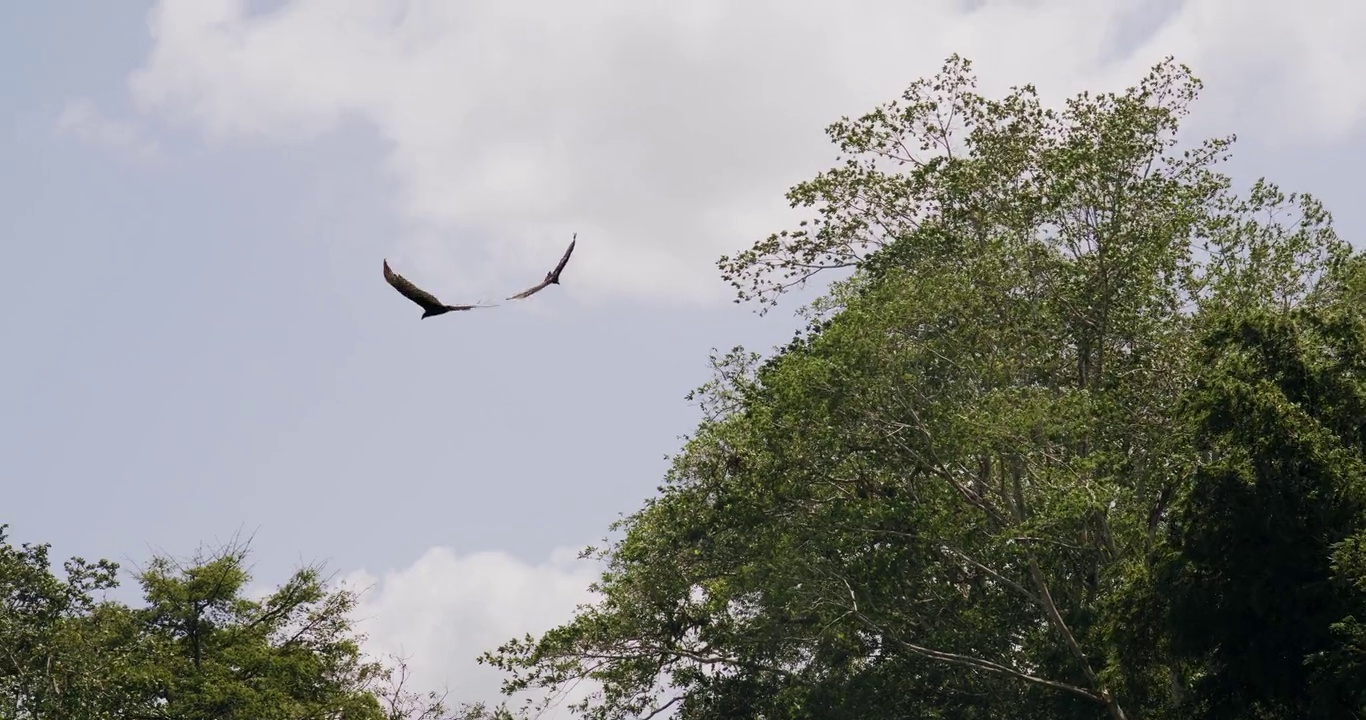bird: (380, 257, 498, 321), (505, 232, 579, 303)
